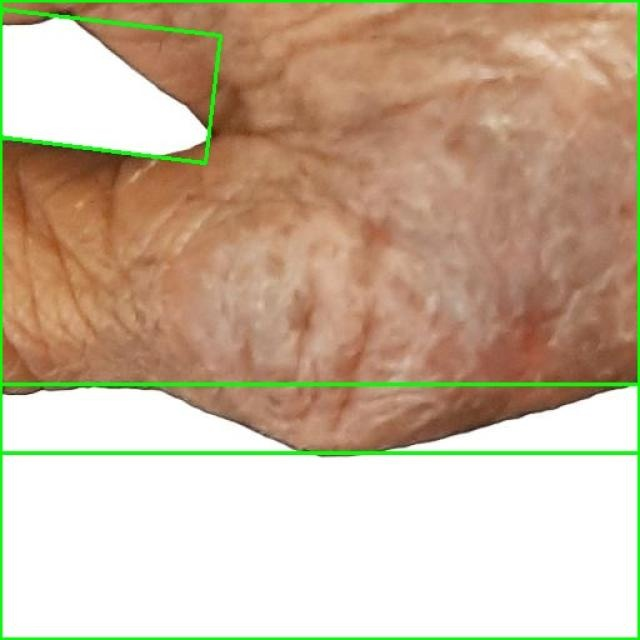Eczema: (0, 0, 639, 452), (0, 384, 639, 639), (0, 7, 222, 164)
